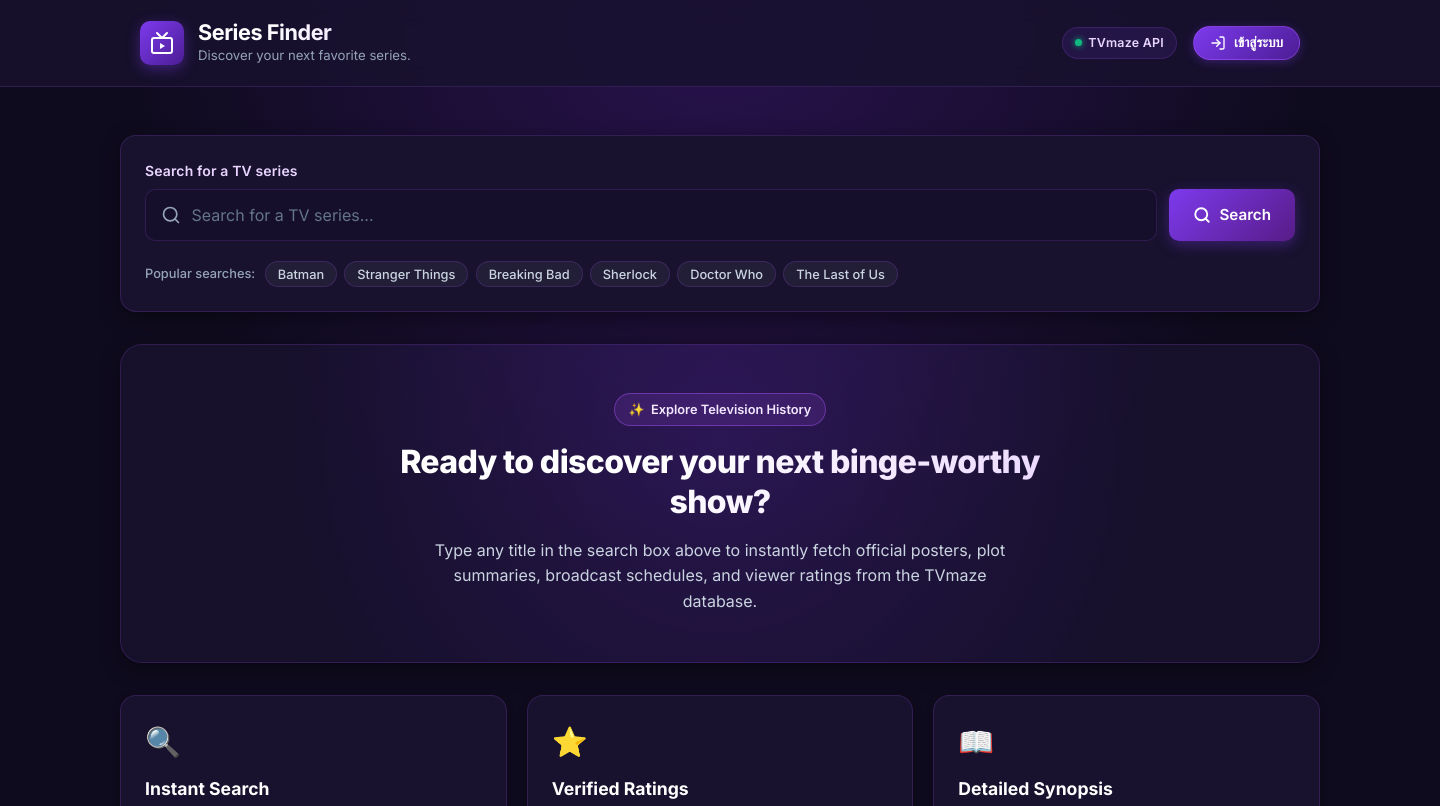
Test: Series Finder Web Application › displays empty state when search returns zero results
Type "nonexistentquery123" into the field labelled "Search for a TV series" at (651, 215), box [145,189,1157,241]
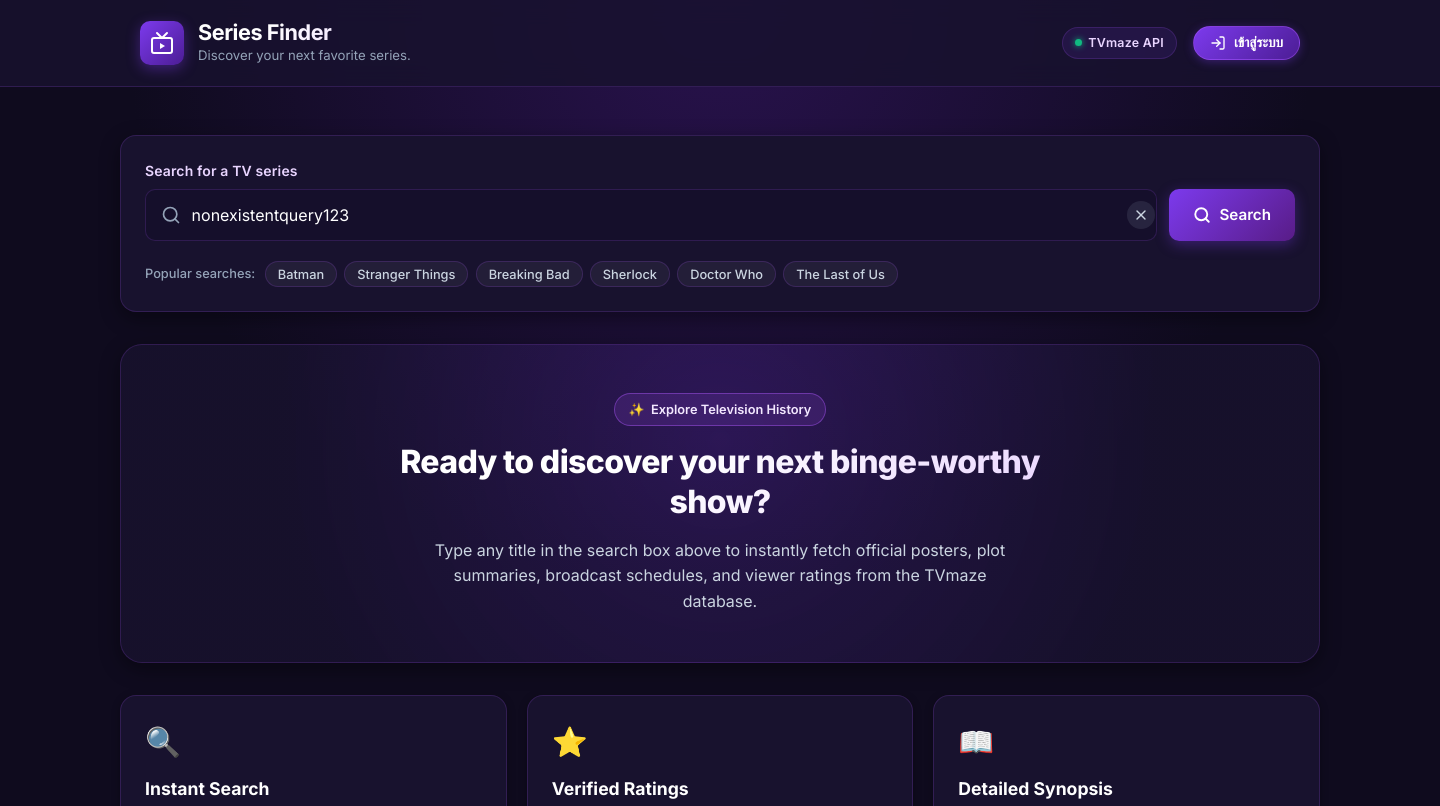
Submit the form, box [120,135,1320,312]
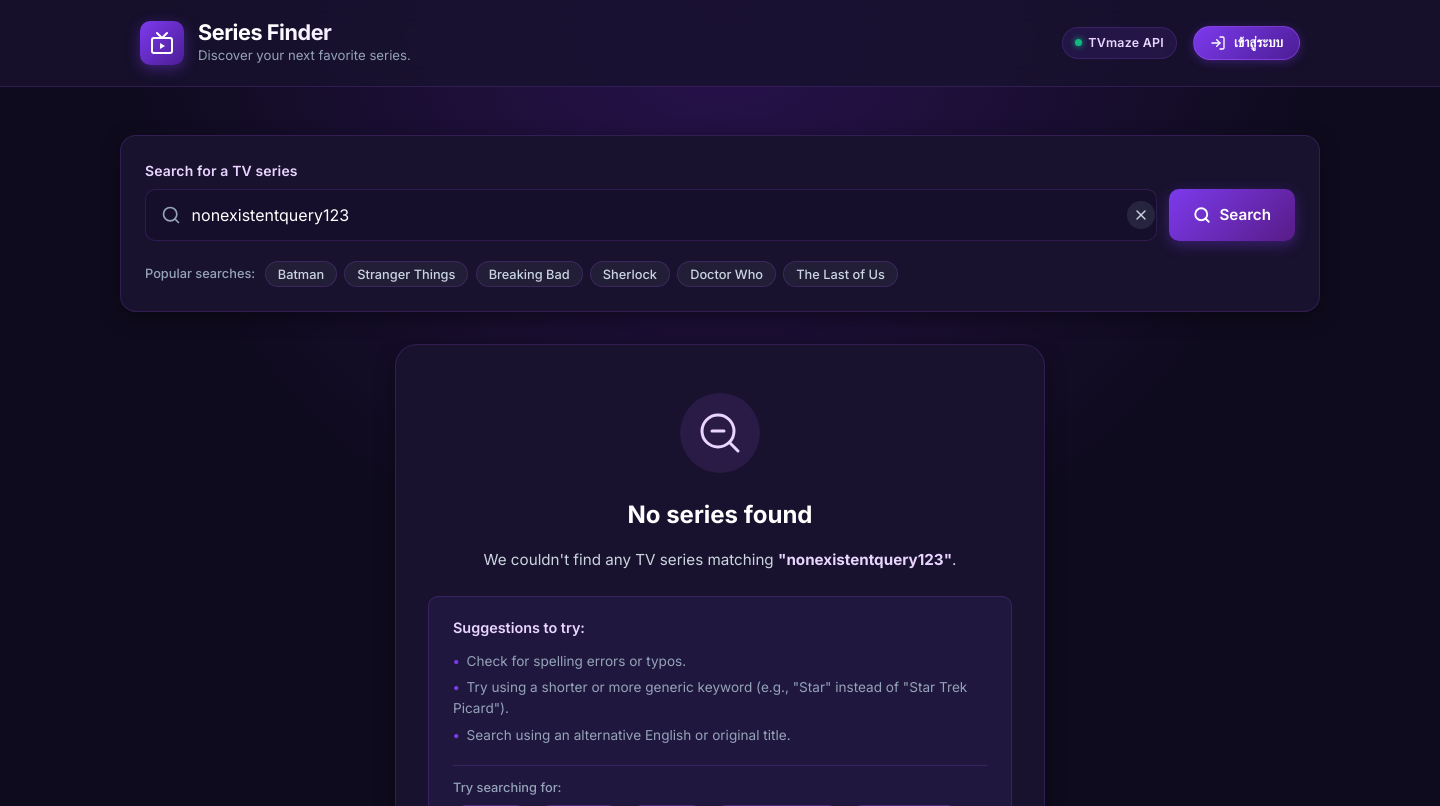
Now the heading "No series found" is shown, box [628,497,812,533]
Now the heading "Suggestions to try:" is shown, box [453,619,585,636]
